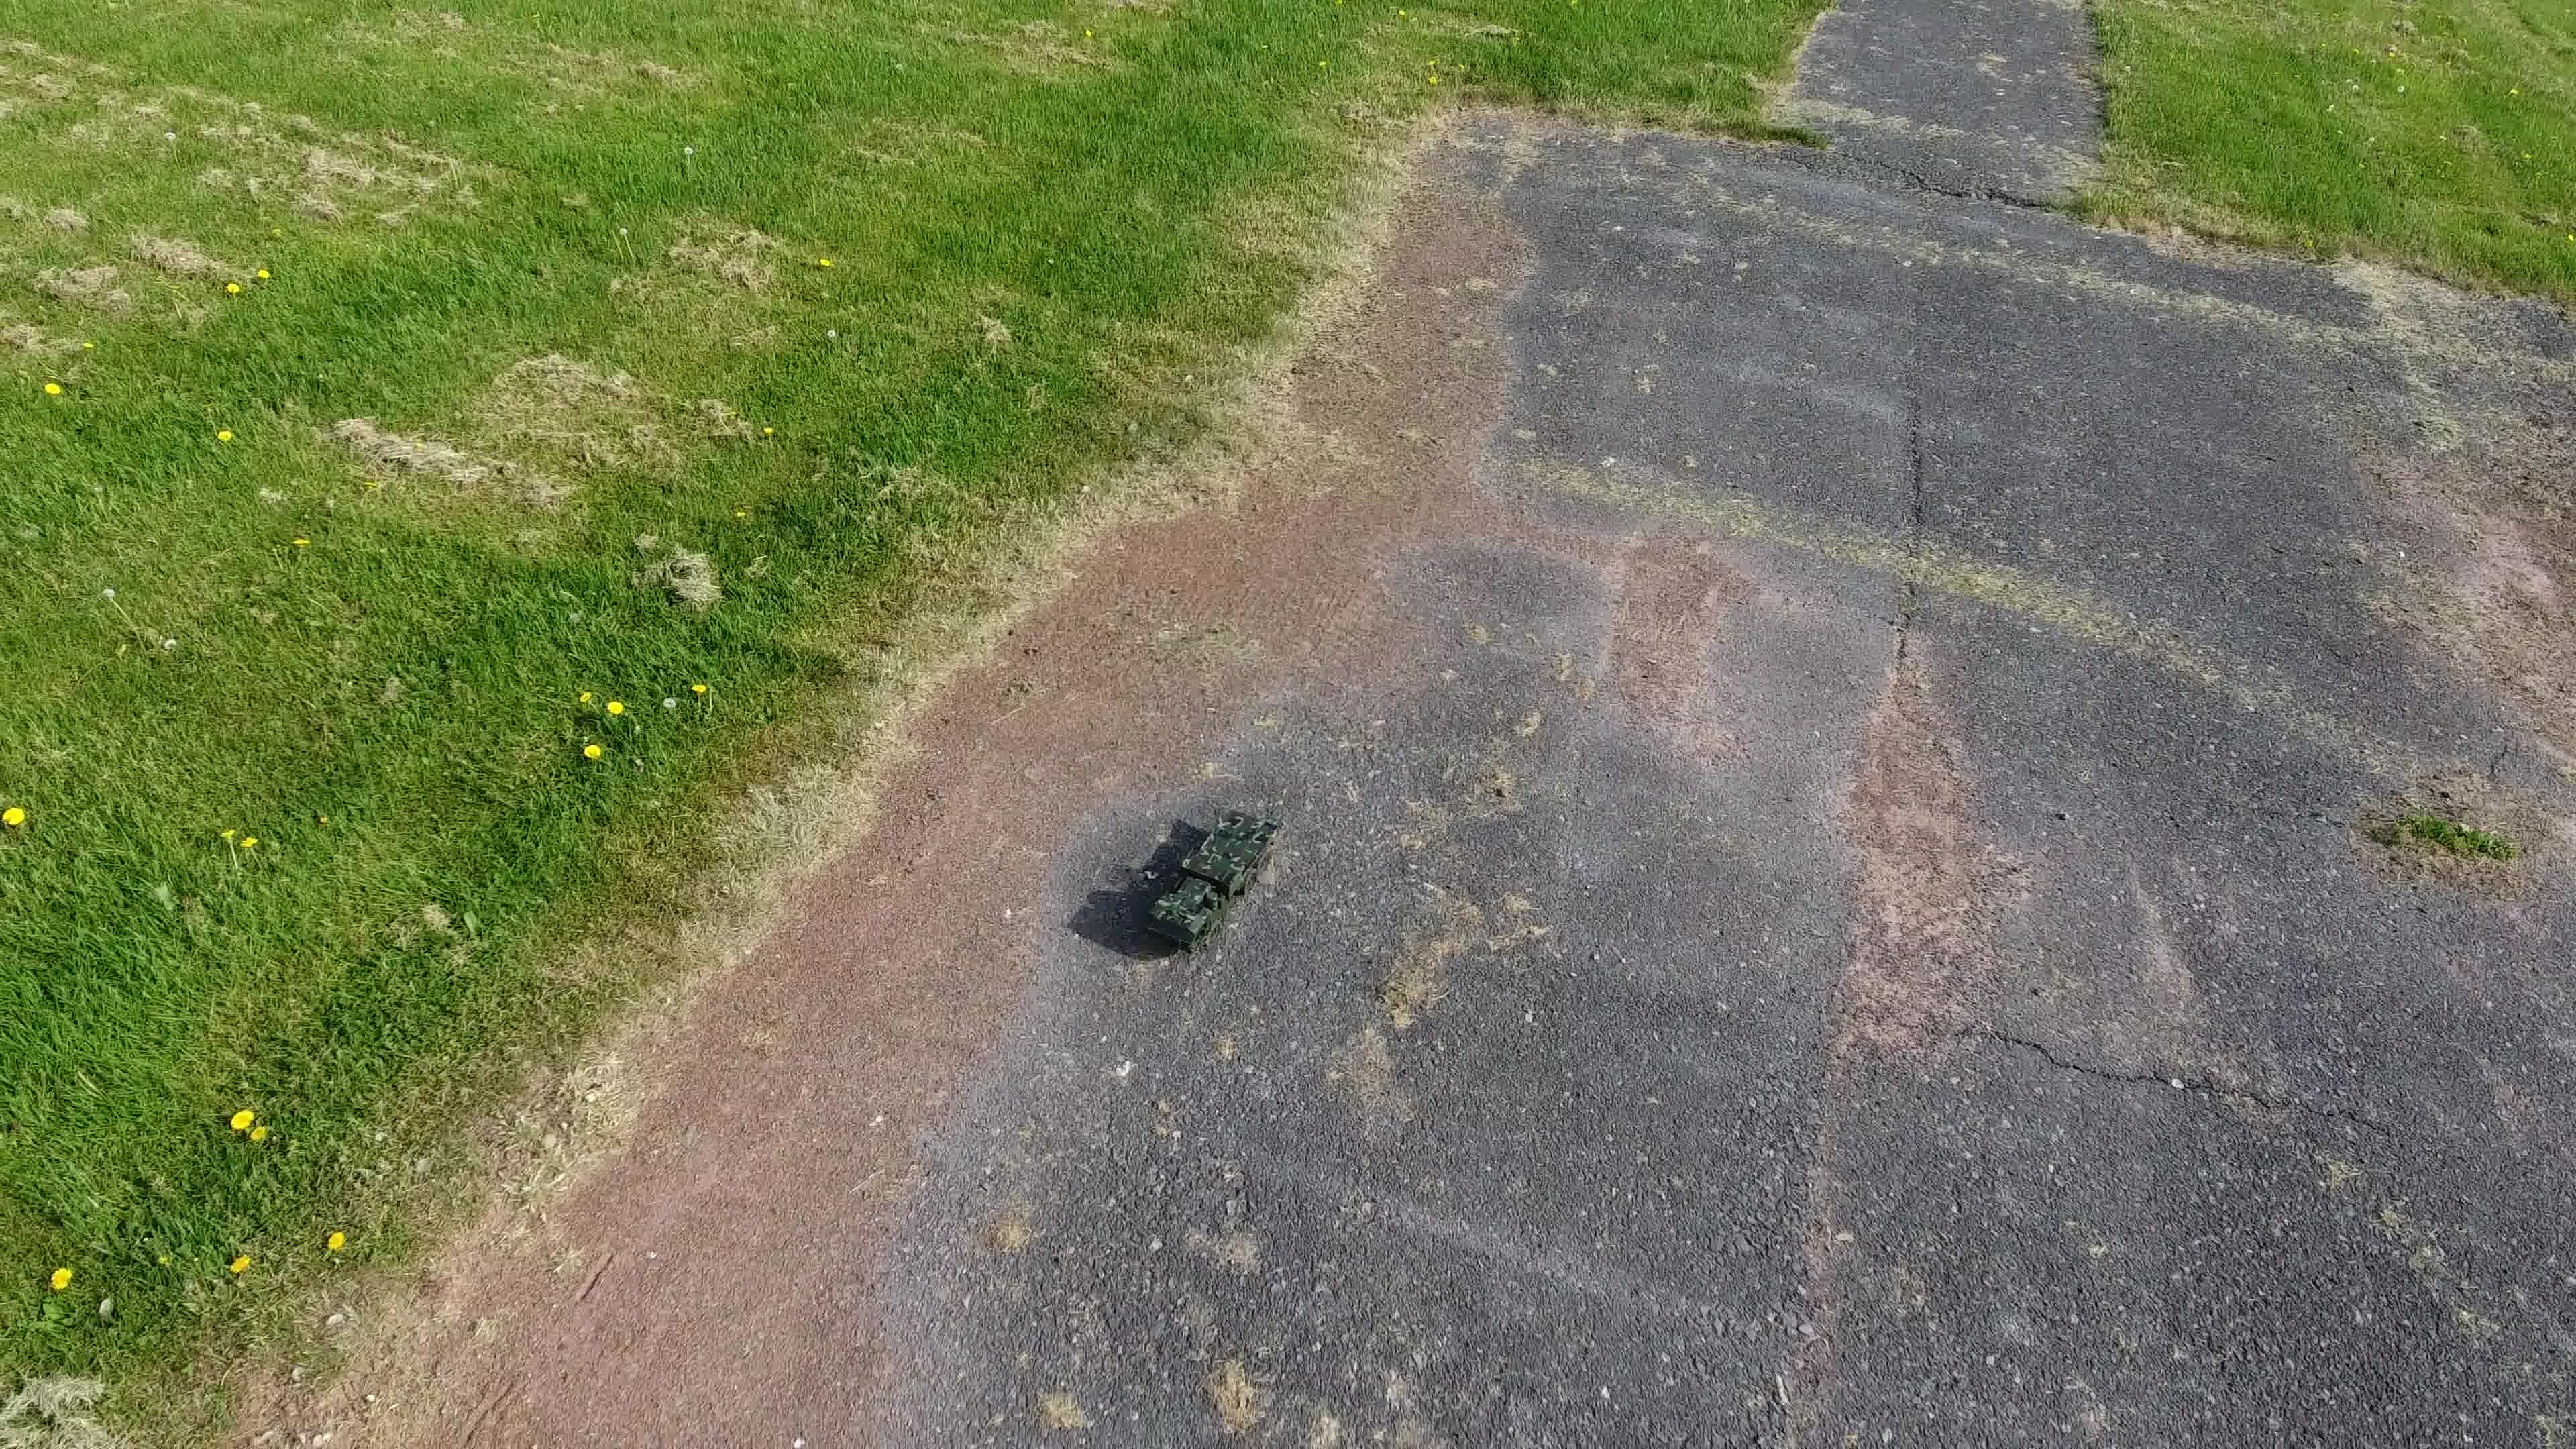transporter9: (1136, 800, 1283, 959)
